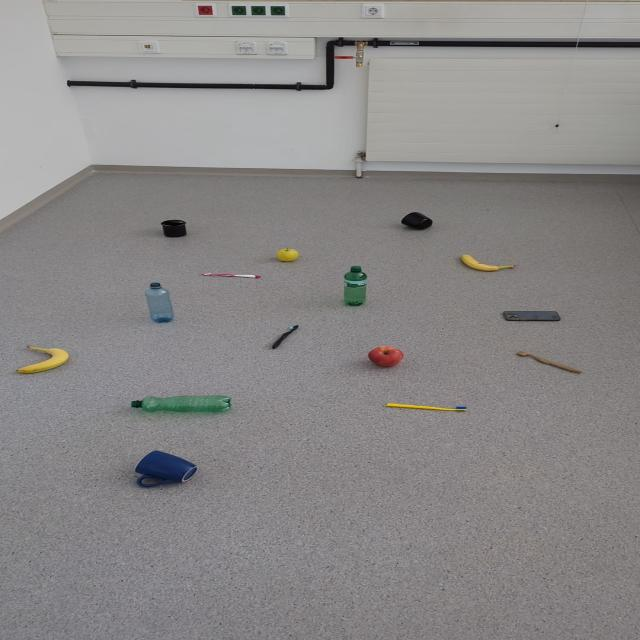apple: (367, 346, 403, 367), (276, 248, 298, 262)
banana: (16, 344, 69, 374), (459, 254, 515, 271)
bottle: (130, 394, 231, 412), (144, 282, 174, 322), (342, 265, 368, 306)
mug: (132, 450, 201, 491), (400, 212, 433, 230), (160, 220, 187, 238)
phone: (502, 310, 560, 322)
toothbrush: (515, 351, 583, 374), (270, 324, 300, 350), (385, 403, 468, 411), (201, 272, 261, 278)
